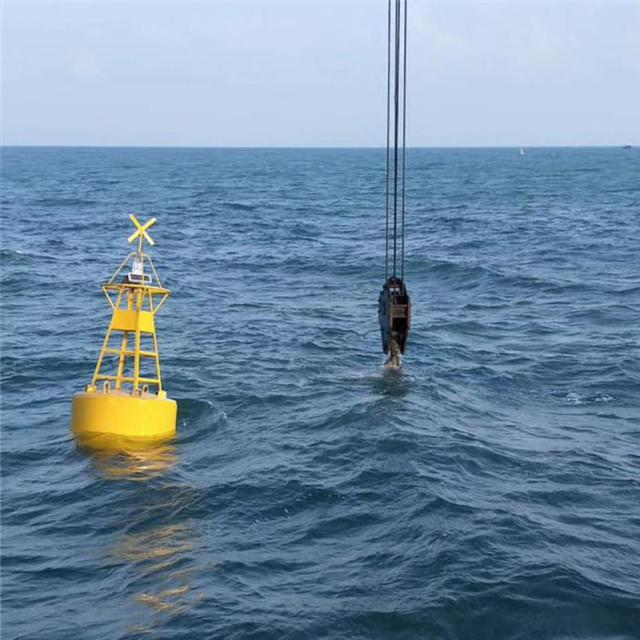buoy: (70, 211, 183, 445)
